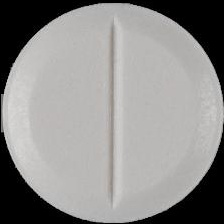0615-2549: (0, 0, 224, 224)
